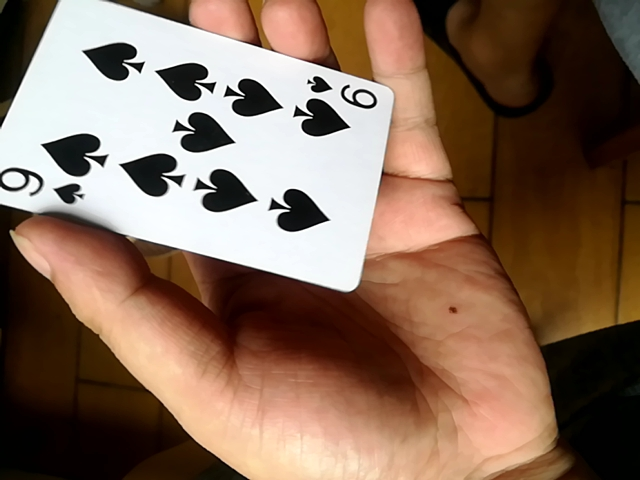ht 9: (5, 1, 399, 298)
